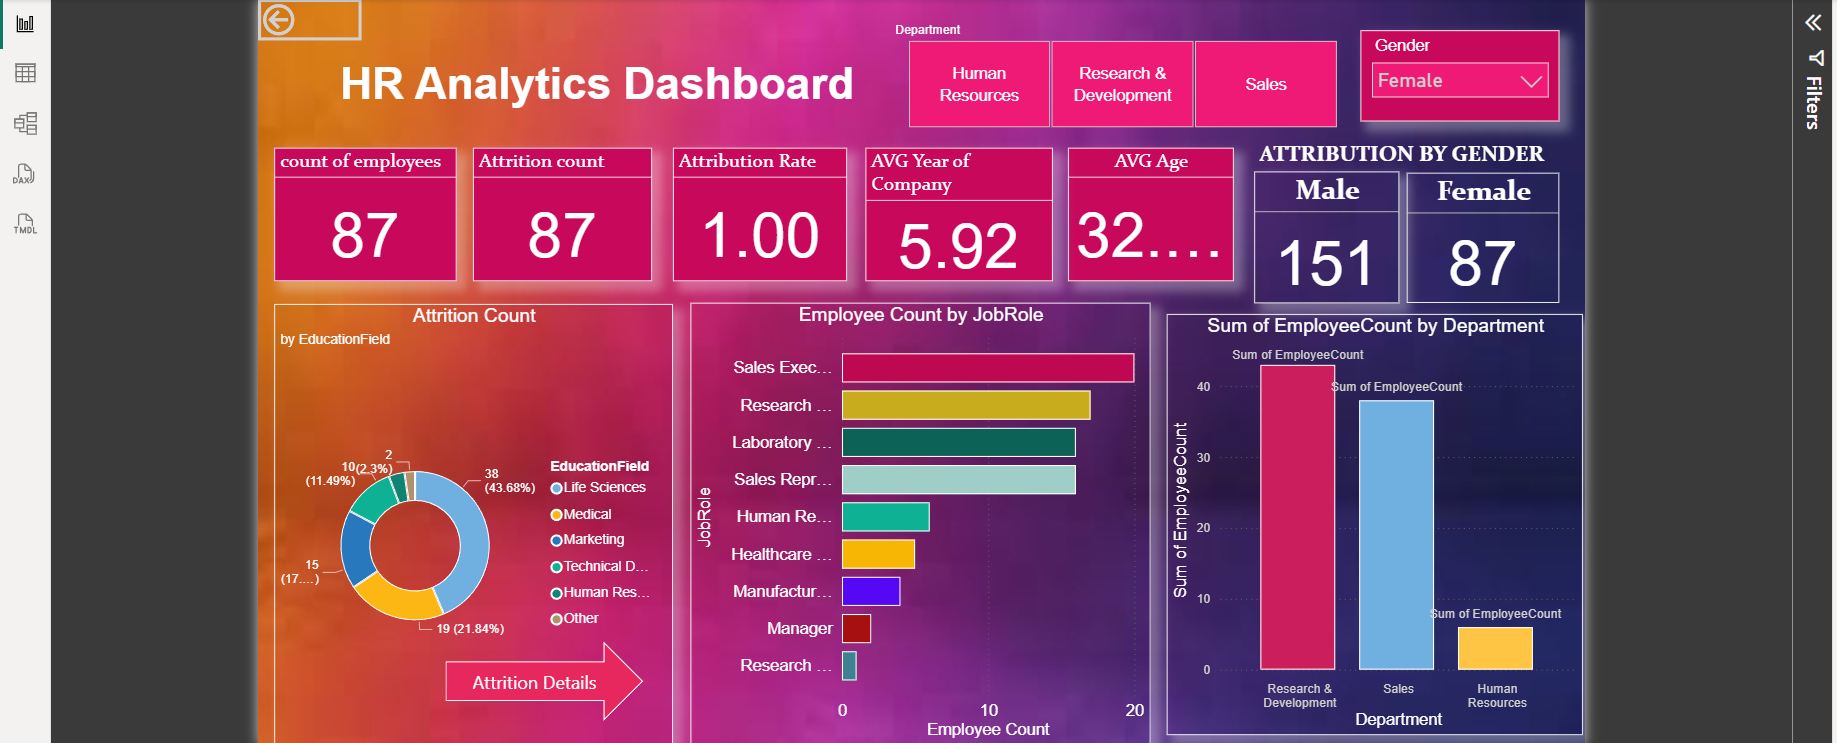

Layout of this report page (visuals, bound fields, positions):
{"tool":"powerbi","page":{"name":"Page 1","canvas":[1280,720],"ordinal":0},"visuals":[{"type":"card","title":"count of employees","fields":{"Values":["HR_Analytics.Total Employees (All Selected)"]},"box":[15.2,144.1,175.9,128.9],"z":0},{"type":"card","title":"Attrition count","fields":{"Values":["HR_Analytics.Attrition Count"]},"box":[207.8,144.1,172.9,128.9],"z":1000},{"type":"card","title":"Attribution Rate","fields":{"Values":["HR_Analytics.Attrition Rate"]},"box":[400.4,144.1,168.3,128.9],"z":2000},{"type":"card","title":"AVG Age","fields":{"Values":["HR_Analytics.Avg Age"]},"box":[781.3,143.5,159.8,128.7],"z":3000},{"type":"card","title":"AVG Year of Company","fields":{"Values":["HR_Analytics.Avg Years at Company"]},"box":[586.9,144.1,180.5,128.9],"z":4000},{"type":"card","title":"Female ","fields":{"Values":["HR_Analytics.Attrition Count Female"]},"box":[1108.9,167.7,147.5,125.8],"z":5000},{"type":"card","title":"Male ","fields":{"Values":["HR_Analytics.Attrition Count Male"]},"box":[961.4,166.3,140.2,127.2],"z":6000},{"type":"donutChart","fields":{"Category":["HR_Analytics.EducationField"],"Y":["HR_Analytics.Attrition Count"]},"box":[15.9,294.9,384.6,425.1],"z":7000},{"type":"clusteredColumnChart","fields":{"Category":["HR_Analytics.Department"],"Y":["Sum(HR_Analytics.EmployeeCount)"]},"box":[877.6,303.6,401.9,406.3],"z":8000},{"type":"clusteredBarChart","fields":{"Category":["HR_Analytics.JobRole"],"Y":["HR_Analytics.Employee Count"]},"box":[417.8,293.5,443.9,426.5],"z":9000},{"type":"slicer","fields":{"Values":["HR_Analytics.Gender"]},"box":[1064.1,30.4,192.3,88.2],"z":10000},{"type":"slicer","fields":{"Values":["HR_Analytics.Department"]},"box":[601.5,18.5,463.1,112.3],"z":11000},{"type":"textbox","box":[50.8,20,550.8,98.5],"z":12000},{"type":"textbox","box":[961.5,131.9,294.2,42.5],"z":13000},{"type":"actionButton","box":[0,0,100,40],"z":14000},{"type":"actionButton","box":[0,0,100,40],"z":15000},{"type":"actionButton","box":[0,0,100,40],"z":16000},{"type":"shape","box":[180.7,620.2,190.8,76.6],"z":20000}]}

Visuals, with their boxes on the page's 1280x720 design canvas (x1, y1, x2, y2). These are canvas units, not pixel positions in the 1837x743 screenshot, which may show the page scaled, cropped or inside an application window:
"count of employees" card: {"x1": 15, "y1": 144, "x2": 191, "y2": 273}
"Attrition count" card: {"x1": 208, "y1": 144, "x2": 381, "y2": 273}
"Attribution Rate" card: {"x1": 400, "y1": 144, "x2": 569, "y2": 273}
"AVG Age" card: {"x1": 781, "y1": 144, "x2": 941, "y2": 272}
"AVG Year of Company" card: {"x1": 587, "y1": 144, "x2": 767, "y2": 273}
"Female " card: {"x1": 1109, "y1": 168, "x2": 1256, "y2": 294}
"Male " card: {"x1": 961, "y1": 166, "x2": 1102, "y2": 294}
donutChart - HR_Analytics.EducationField x HR_Analytics.Attrition Count: {"x1": 16, "y1": 295, "x2": 400, "y2": 720}
clusteredColumnChart - HR_Analytics.Department x Sum(HR_Analytics.EmployeeCount): {"x1": 878, "y1": 304, "x2": 1280, "y2": 710}
clusteredBarChart - HR_Analytics.JobRole x HR_Analytics.Employee Count: {"x1": 418, "y1": 294, "x2": 862, "y2": 720}
slicer - HR_Analytics.Gender: {"x1": 1064, "y1": 30, "x2": 1256, "y2": 119}
slicer - HR_Analytics.Department: {"x1": 602, "y1": 18, "x2": 1065, "y2": 131}
textbox: {"x1": 51, "y1": 20, "x2": 602, "y2": 118}
textbox: {"x1": 962, "y1": 132, "x2": 1256, "y2": 174}
actionButton: {"x1": 0, "y1": 0, "x2": 100, "y2": 40}
actionButton: {"x1": 0, "y1": 0, "x2": 100, "y2": 40}
actionButton: {"x1": 0, "y1": 0, "x2": 100, "y2": 40}
shape: {"x1": 181, "y1": 620, "x2": 372, "y2": 697}
